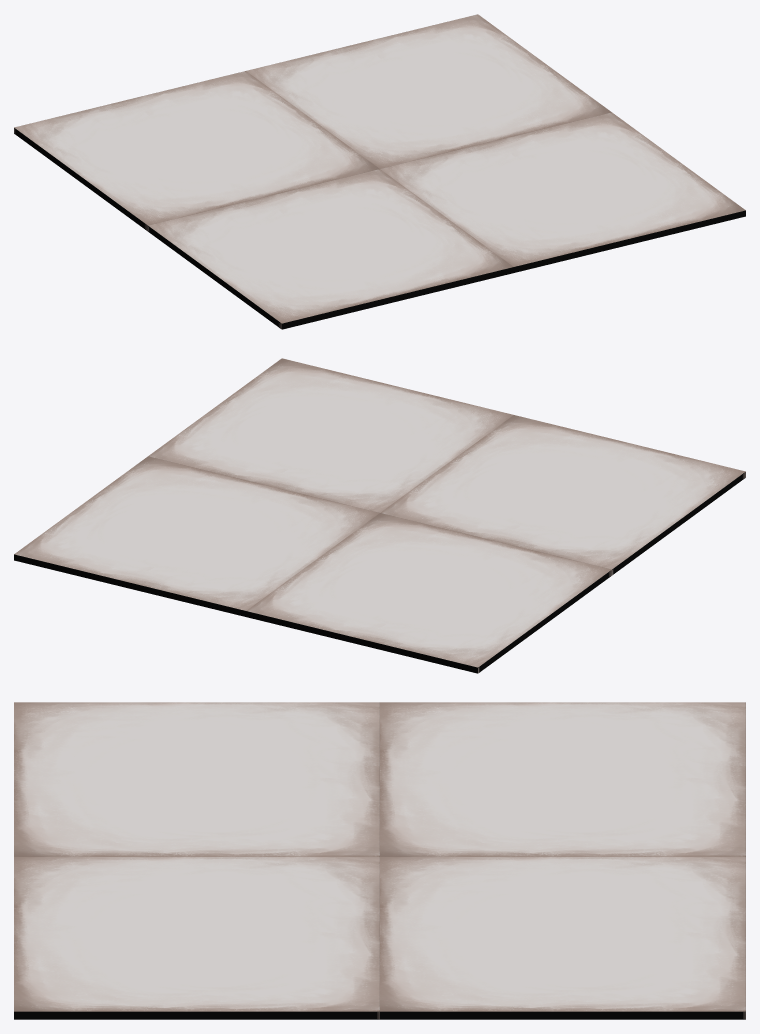
File: tile4.obj
The picture shows the model from 3 angles, top to bottom: view 1: azimuth 30°, elevation 25°; view 2: azimuth 150°, elevation 25°; view 3: azimuth 270°, elevation 25°; orthographic projection. The views are drawn at different scales.
Visible parts, largest first — view 1: pCube6; view 2: pCube6; view 3: pCube6.
Boxes of the visible parts, <box> form: pCube6: <box>14,14,745,329</box>; pCube6: <box>14,358,745,673</box>; pCube6: <box>14,702,745,1019</box>.
Bounding box in the file's own units: 2 × 0.025 × 2.
1 material, 1 textured.
